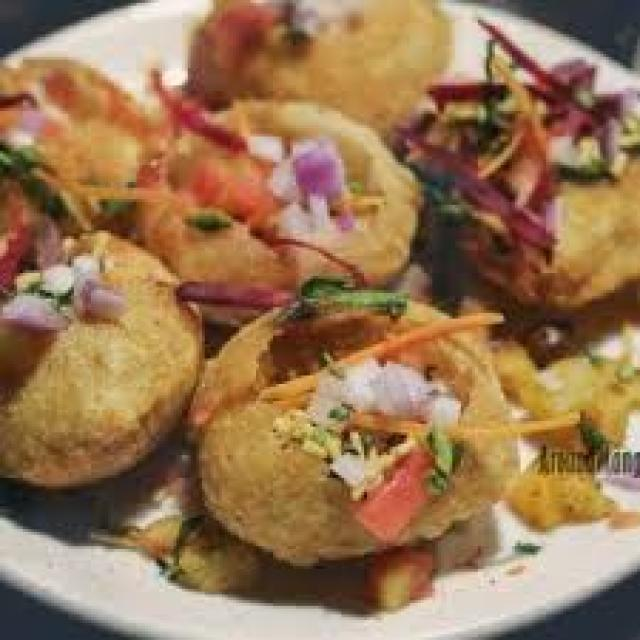papad: (2, 247, 211, 500)
pickle: (392, 97, 503, 193)
